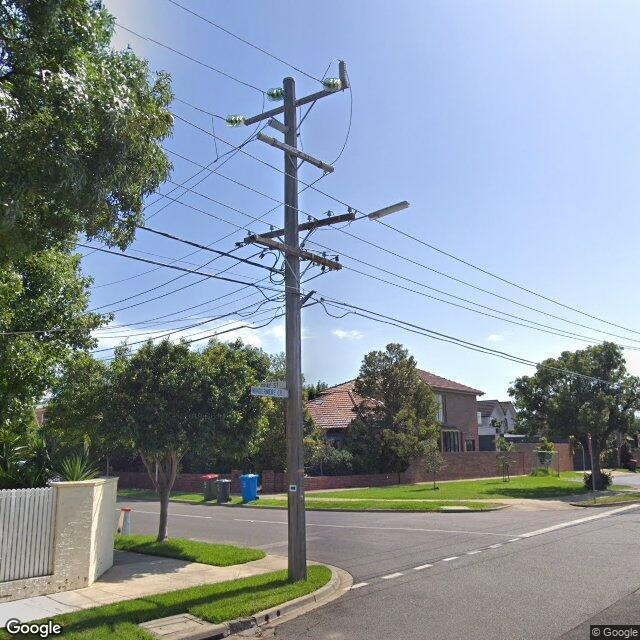HV-transmission: (225, 59, 351, 128)
crossarm: (236, 206, 356, 247), (246, 82, 351, 126), (250, 234, 343, 272), (258, 132, 335, 172)
streetlight: (354, 201, 411, 221)
timber-pole: (282, 77, 307, 582)
